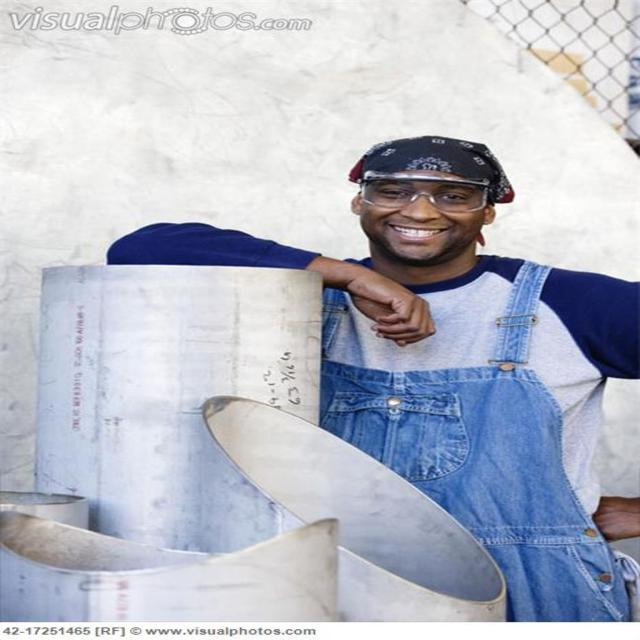Face: (356, 173, 499, 261)
